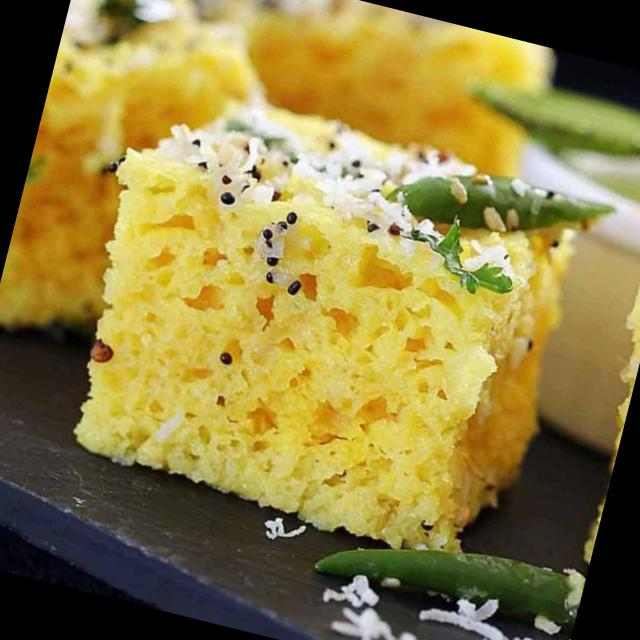dhokla: (0, 0, 607, 551)
